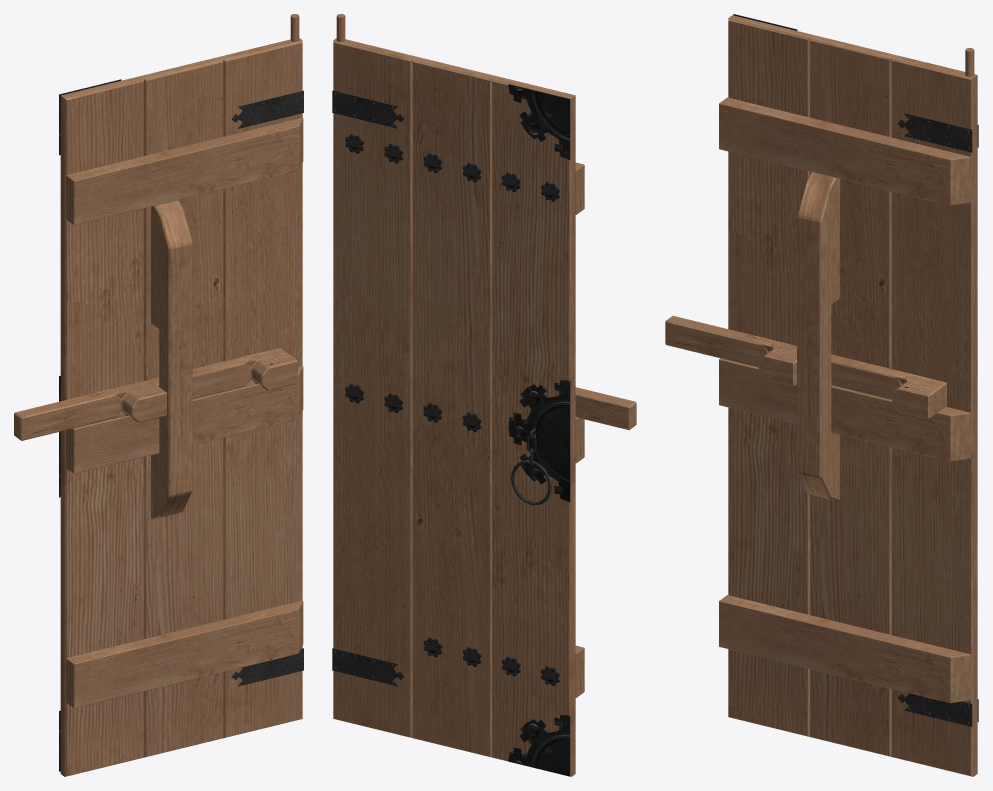
Rendered from SM_Gyedong_Door_01C.fbx.
The picture shows the model from 3 angles, left to right: view 1: azimuth 30°, elevation 25°; view 2: azimuth 150°, elevation 25°; view 3: azimuth 330°, elevation 25°; orthographic projection. The views are drawn at different scales.
Visible parts, largest first — view 1: SM_Gyedong_Door_01C; view 2: SM_Gyedong_Door_01C; view 3: SM_Gyedong_Door_01C.
Part boxes in pixels (x1,y1,x2,y2): SM_Gyedong_Door_01C: (14, 14, 303, 776); SM_Gyedong_Door_01C: (332, 14, 636, 776); SM_Gyedong_Door_01C: (665, 14, 978, 776).
Bounding box in the file's own units: 71.55 × 165 × 12.93.
